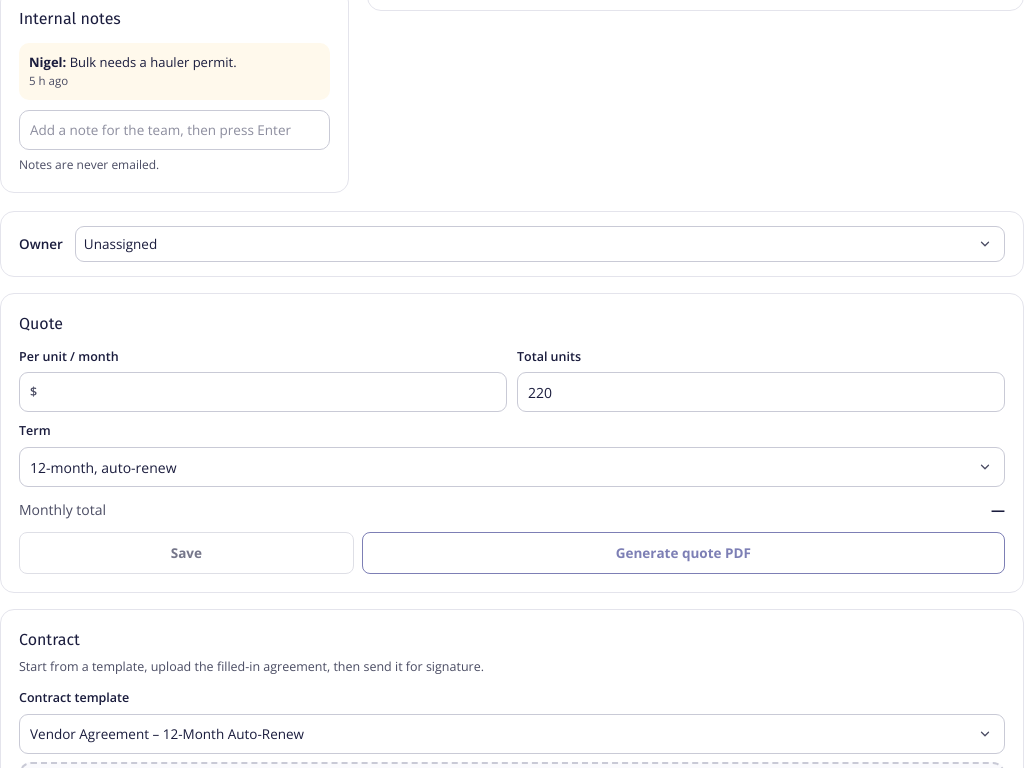
QuoteDetailPage › prices the quote and stores the generated PDF
The width and height of the screenshot is (1024, 768).
(page scrolled)
Type "14.50" into the field labelled "Per unit / month" at point(267, 392), box [37, 382, 496, 403]
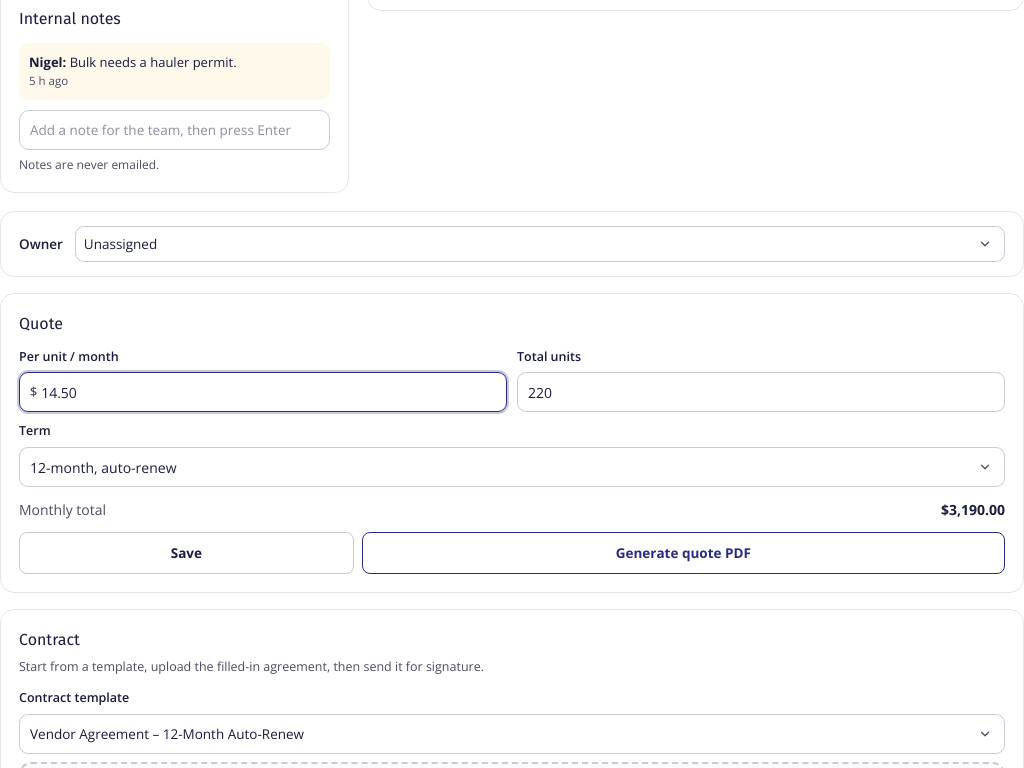
Now the text "$3,190.00" is shown, box [941, 499, 1005, 520]
Click the button "Generate quote PDF" at point(683, 553), box [362, 532, 1005, 574]
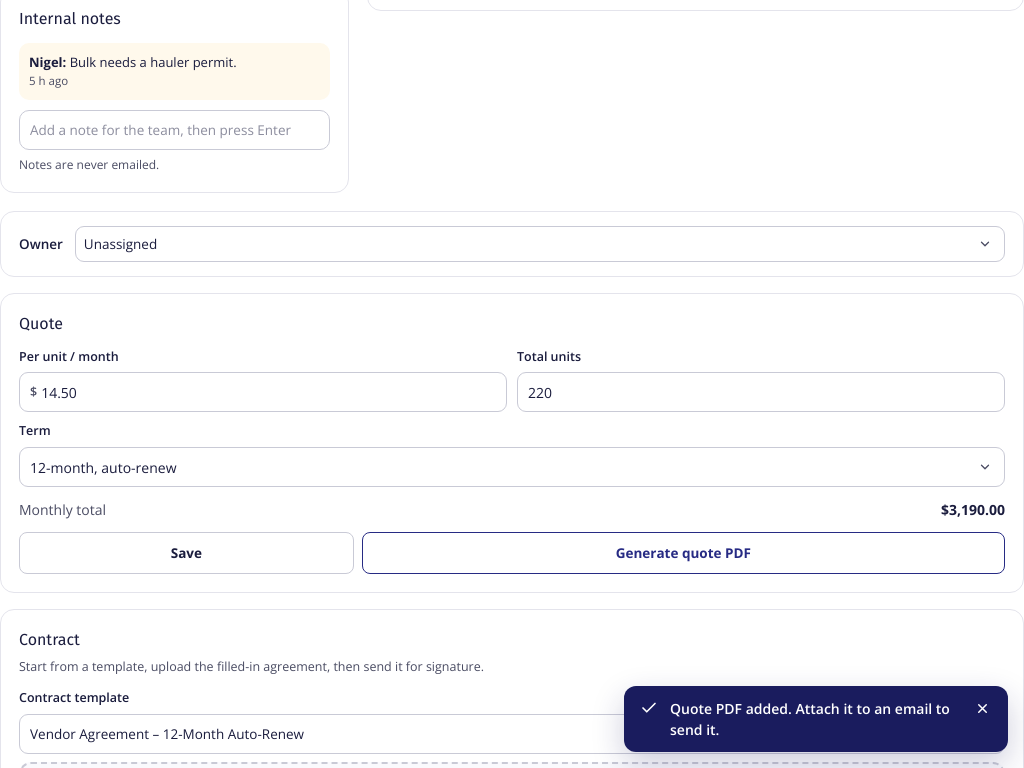
Now the text "Quote PDF added. Attach it to an email to send it." is shown, box [670, 698, 960, 740]
